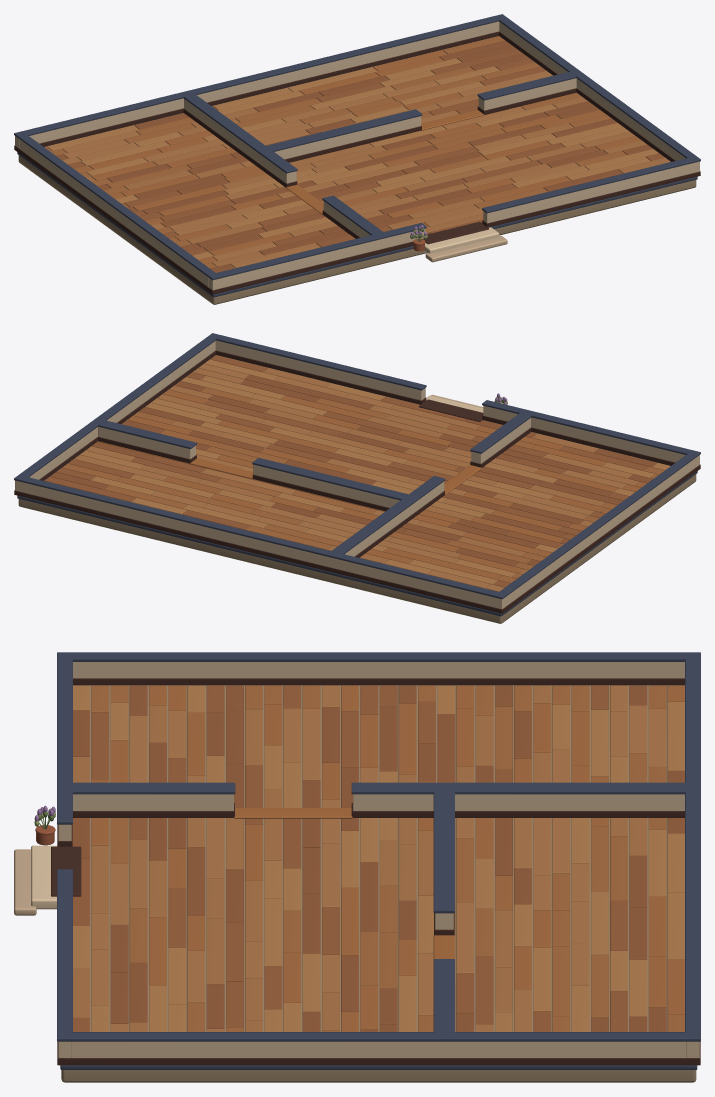
File: architecture.glb
3 renders of one model, top to bottom at view 1: azimuth 30°, elevation 25°; view 2: azimuth 150°, elevation 25°; view 3: azimuth 270°, elevation 25°, orthographic. The views are drawn at different scales.
Visible parts, largest first — view 1: architecture_pivot.001_Mesh; view 2: architecture_pivot.001_Mesh; view 3: architecture_pivot.001_Mesh.
Boxes of the visible parts, x1,y1,x2,y2 form: architecture_pivot.001_Mesh: (14,14,700,304); architecture_pivot.001_Mesh: (14,333,700,623); architecture_pivot.001_Mesh: (14,652,700,1082).
Bounding box in the file's own units: 18.6 × 1.27 × 13.97.
